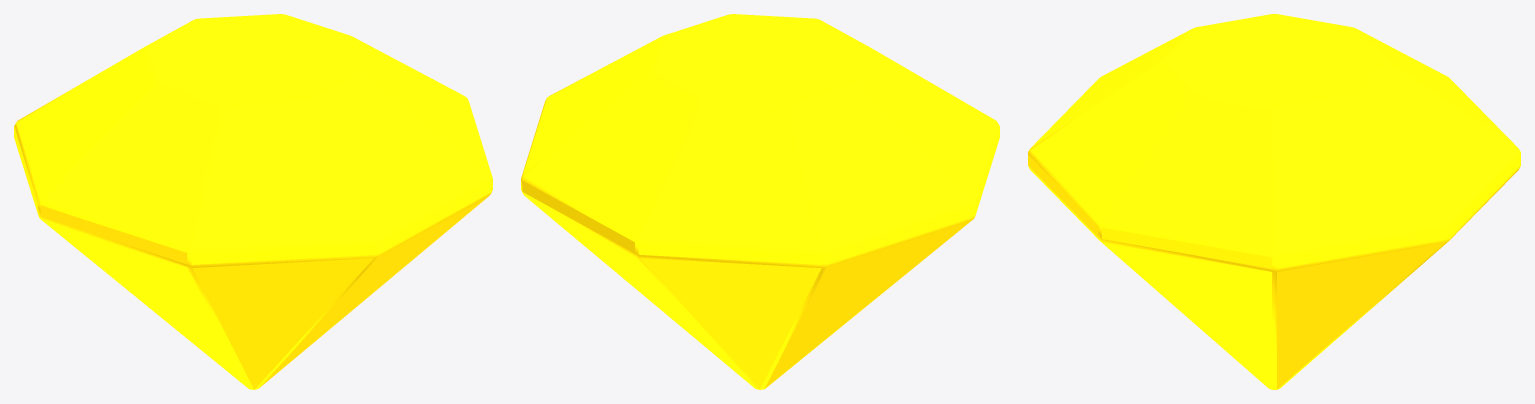
The model's file is gemstone.fbx.
3 views of the same model, side by side, from view 1: azimuth 30°, elevation 25°; view 2: azimuth 150°, elevation 25°; view 3: azimuth 270°, elevation 25° (orthographic).
Parts seen in each view (by area): view 1: Disc; view 2: Disc; view 3: Disc.
Part boxes in pixels (left/top/right/bottom): Disc: left=14, top=14, right=492, bottom=389; Disc: left=521, top=14, right=999, bottom=389; Disc: left=1028, top=14, right=1520, bottom=389.
Bounding box in the file's own units: 199 × 146 × 199.
